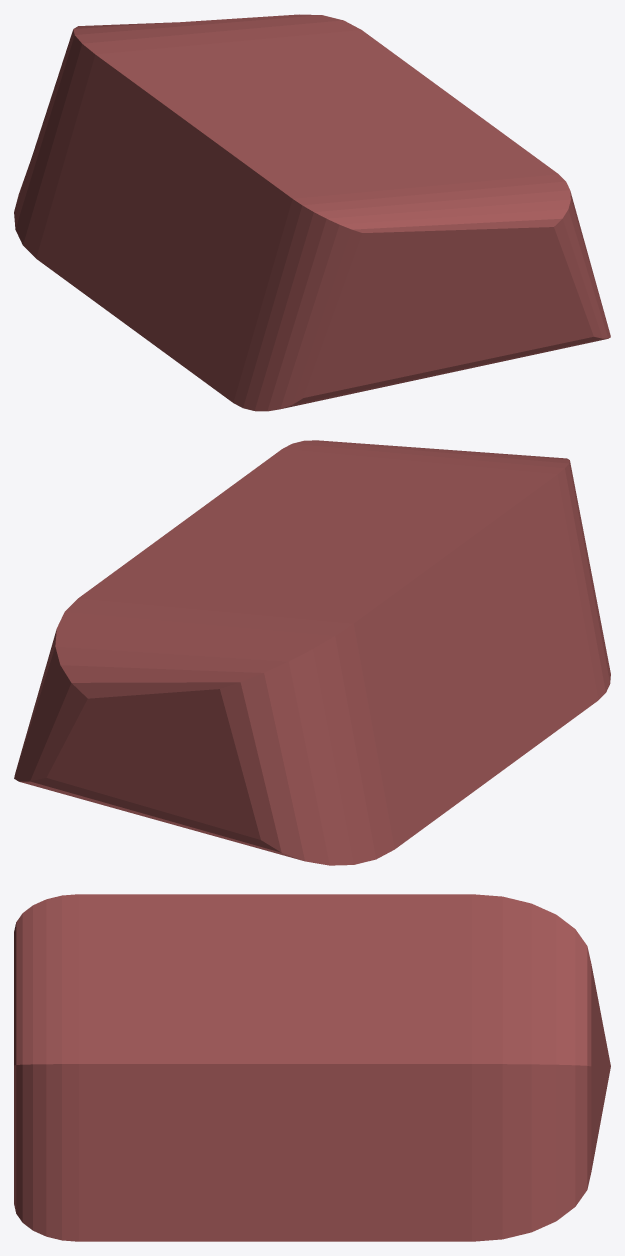
The model's file is chunk3.fbx.
The picture shows the model from 3 angles, top to bottom: view 1: azimuth 30°, elevation 25°; view 2: azimuth 150°, elevation 25°; view 3: azimuth 270°, elevation 25°; orthographic projection. The views are drawn at different scales.
Visible parts, largest first — view 1: Cube; view 2: Cube; view 3: Cube.
Boxes of the visible parts, left/top/right/bottom form: Cube: left=14, top=14, right=610, bottom=411; Cube: left=14, top=440, right=610, bottom=865; Cube: left=14, top=894, right=610, bottom=1241.
Size of the model in its own units: 425 by 228 by 620.
